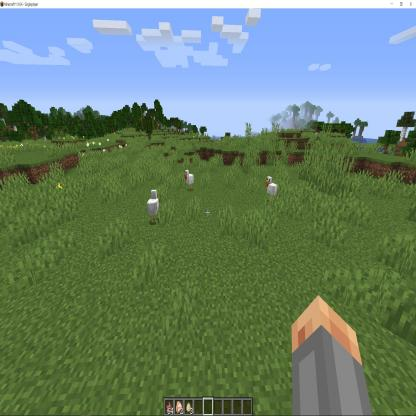minecraft-pigs: (146, 188, 160, 227), (264, 176, 278, 208), (182, 168, 194, 191)
